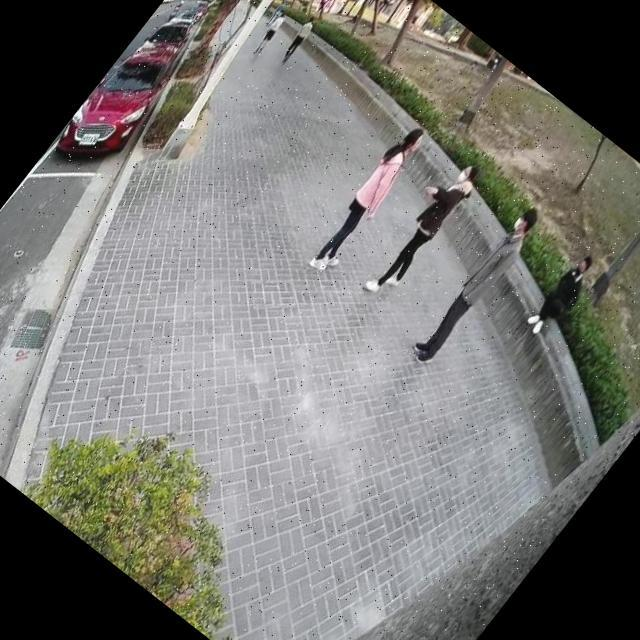person: (405, 198, 552, 372), (298, 112, 444, 285), (352, 142, 494, 306), (521, 246, 607, 344), (248, 4, 298, 61), (276, 11, 324, 65)
